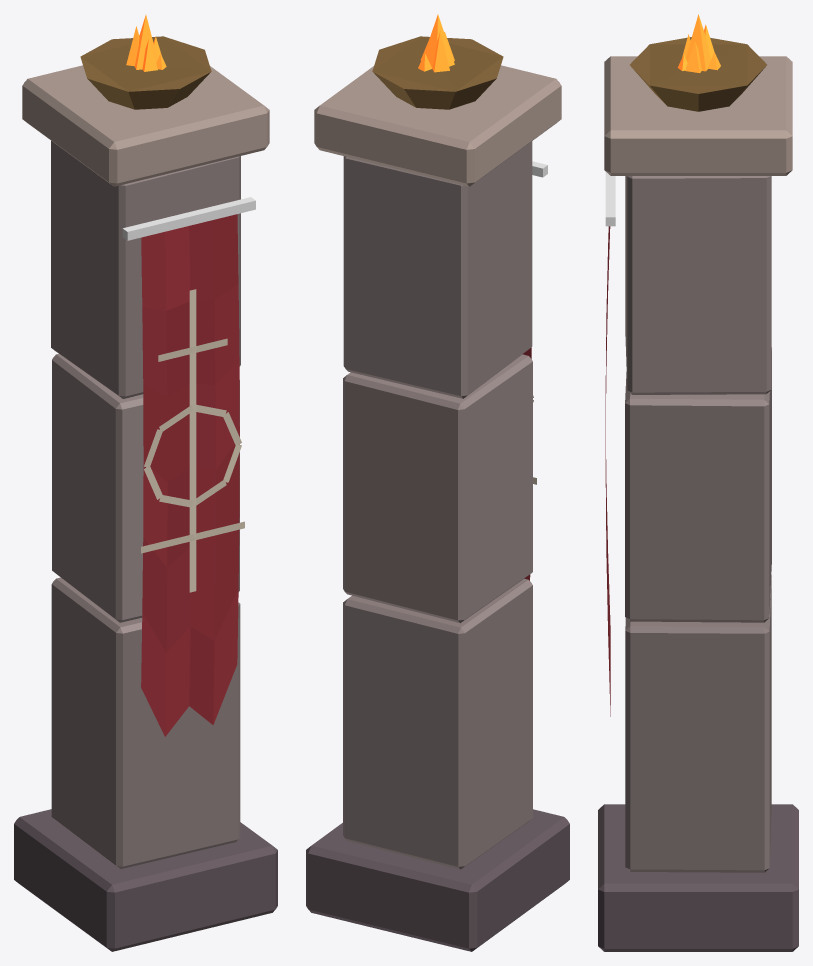
The model's file is Pillar_Banner.fbx.
3 renders of one model, left to right at view 1: azimuth 30°, elevation 25°; view 2: azimuth 150°, elevation 25°; view 3: azimuth 270°, elevation 25°, orthographic.
Parts seen in each view (by area): view 1: Pillar_Banner; view 2: Pillar_Banner; view 3: Pillar_Banner.
Part boxes in pixels (x1,y1,x2,y2): Pillar_Banner: [14, 15, 277, 951]; Pillar_Banner: [306, 14, 569, 951]; Pillar_Banner: [598, 14, 798, 951].
Bounding box in the file's own units: 1.6 × 7.9 × 1.6.
